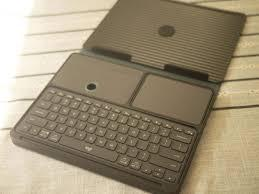keyboard: (13, 88, 197, 185)
